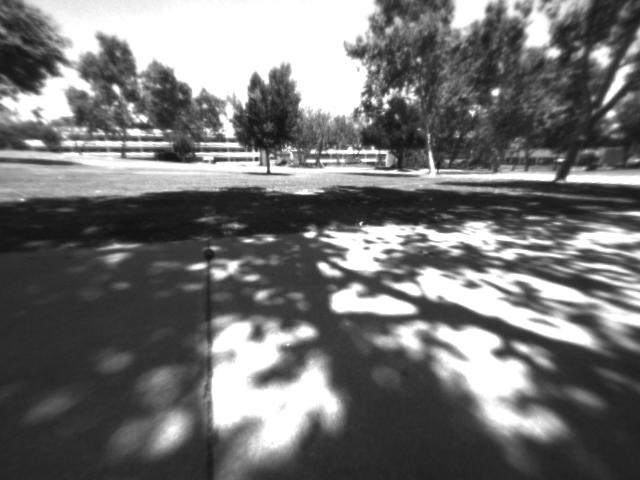dogtoy: (196, 245, 221, 264)
